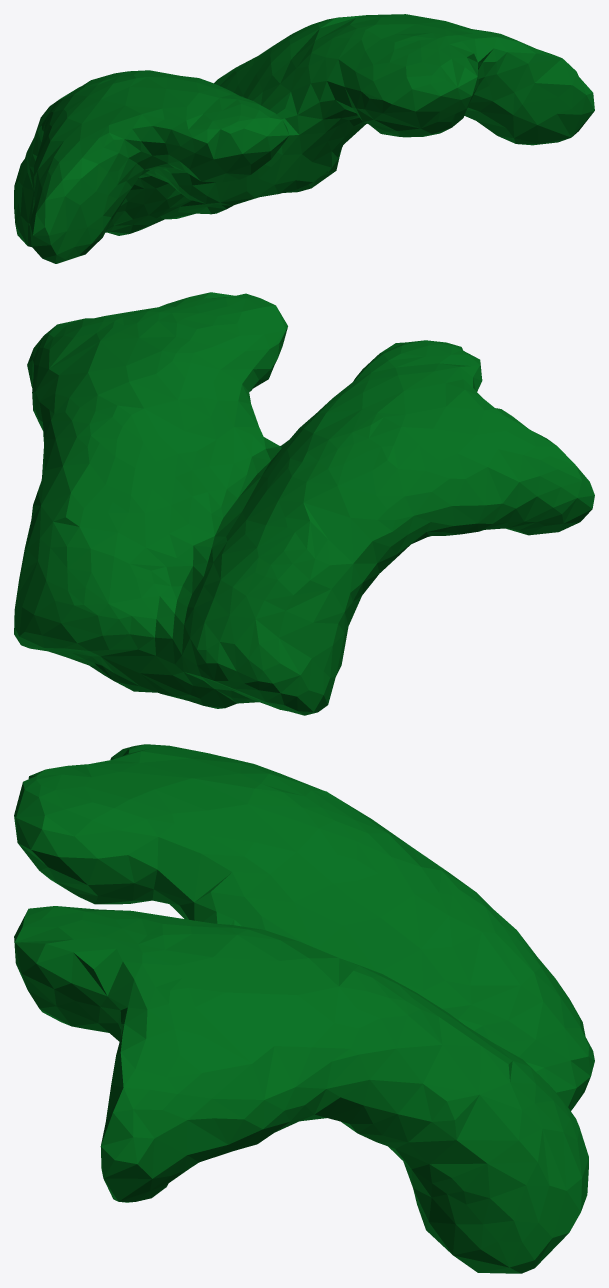
Rendered from 92-PEC-parietal area PE, caudal part-('0.0000', '0.4980', '0.1333').obj.
3 renders of one model, top to bottom at view 1: azimuth 30°, elevation 25°; view 2: azimuth 150°, elevation 25°; view 3: azimuth 270°, elevation 25°, orthographic. The views are drawn at different scales.
Size of the model in its own units: 134 by 57.94 by 86.84.
